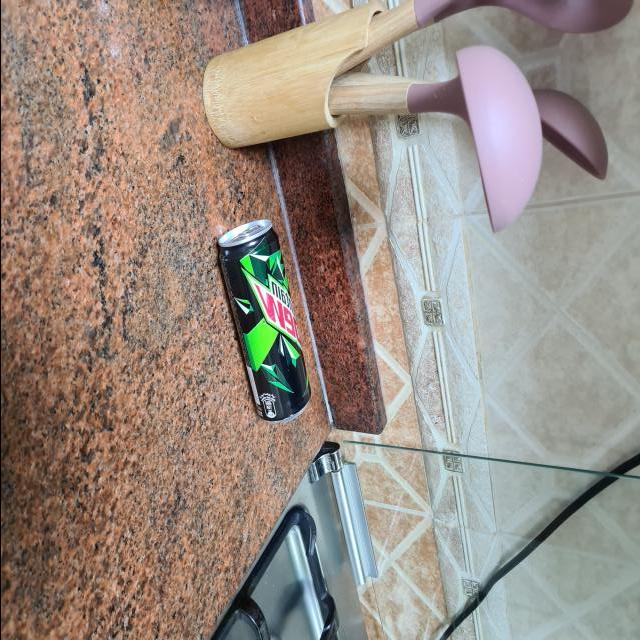can: (205, 217, 322, 422)
